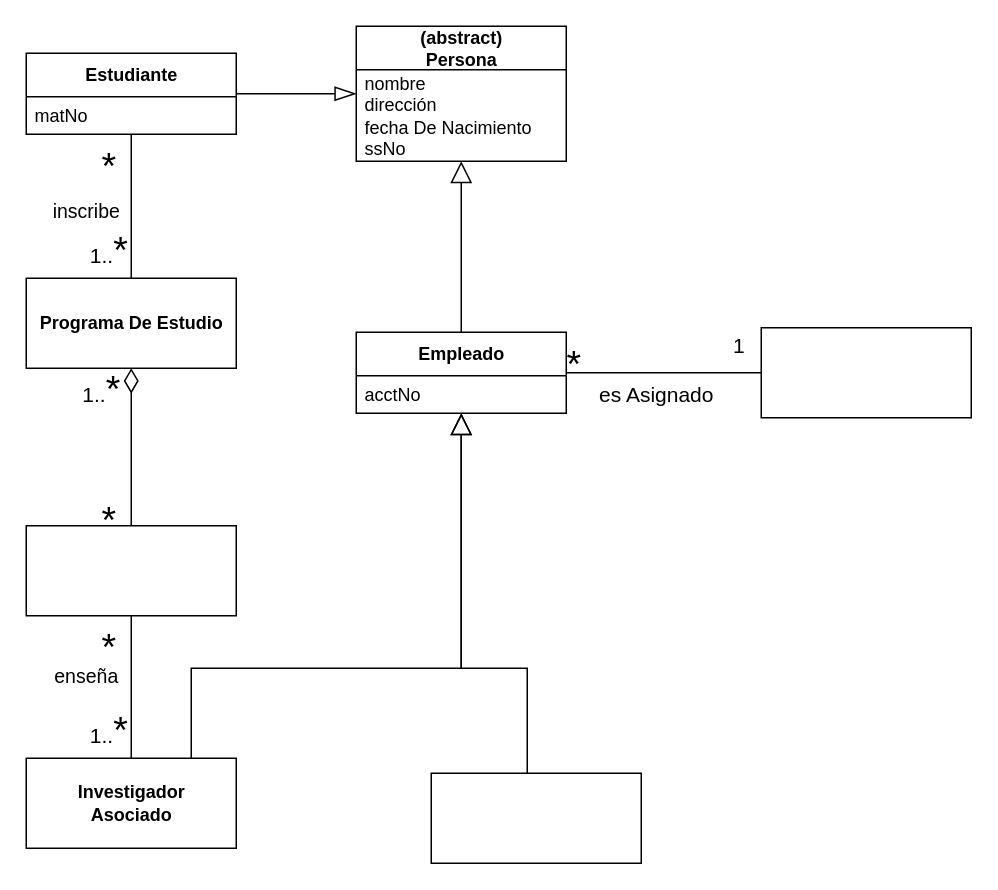
The diagram is 998 pixels wide and 890 high, and some of its shapes have lost their labels. Each missing label, with the centre of its shape:
Curso: point (130, 570)
Empleado Administrativa: point (535, 817)
Facultad: point (865, 372)
